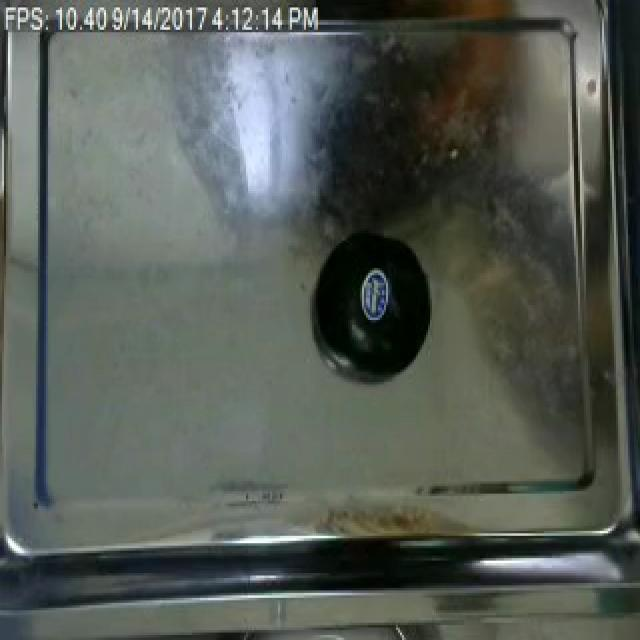Fruit: (350, 260, 400, 328)
